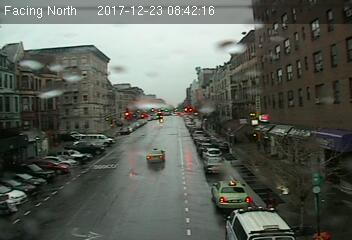car: (210, 178, 251, 209), (205, 156, 227, 175), (145, 148, 166, 165)
police: (223, 206, 305, 240)
